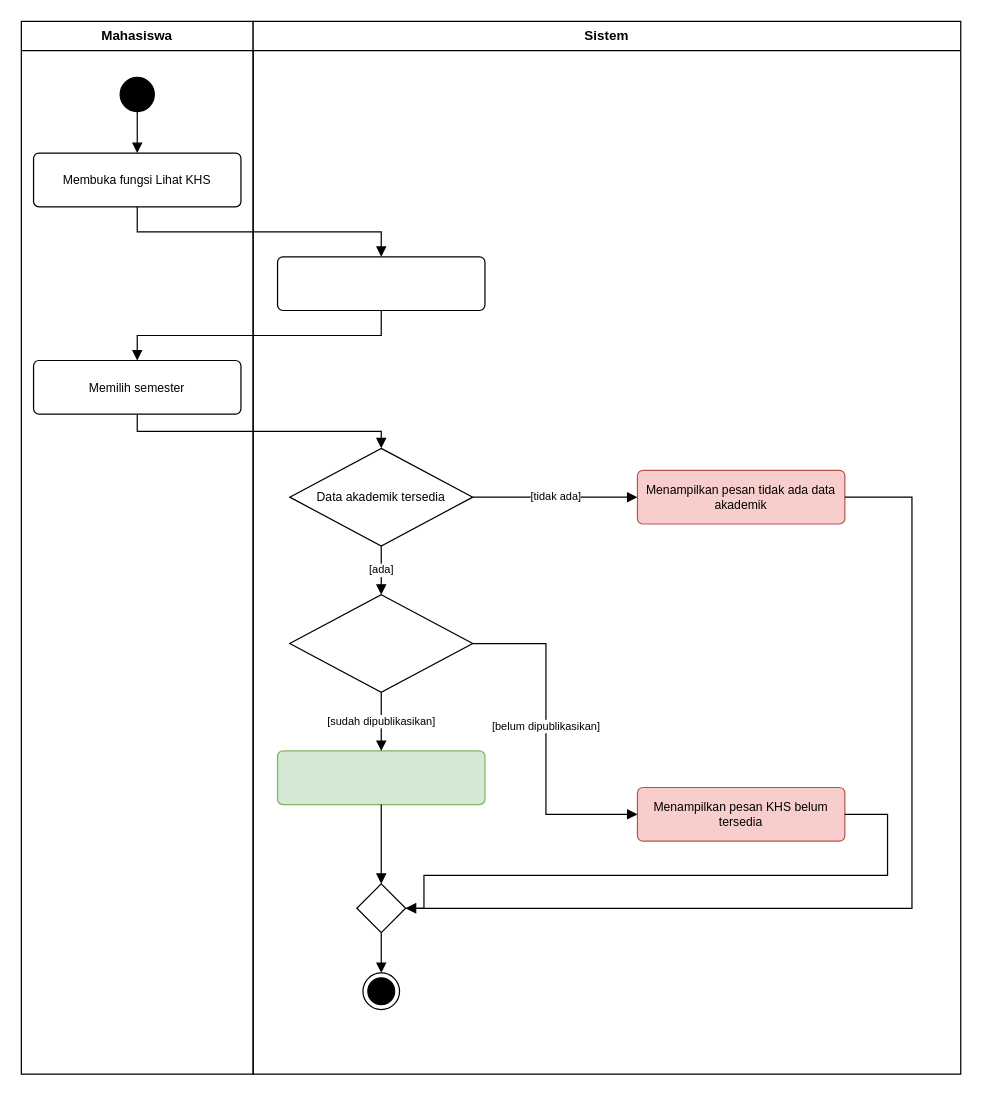
Some shapes in this 982 by 1096 pixel diagram are drawn without their labels. Here are the shapes that lost their labels. From the top down, the centre of each, then its label:
point (380, 283): Menampilkan daftar semester yang memiliki data akademik
point (381, 643): Nilai dipublikasikan
point (380, 777): Menampilkan KHS semester tersebut
